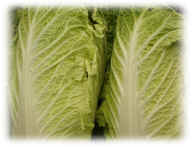cabbage: (6, 4, 112, 140), (89, 6, 185, 140)
